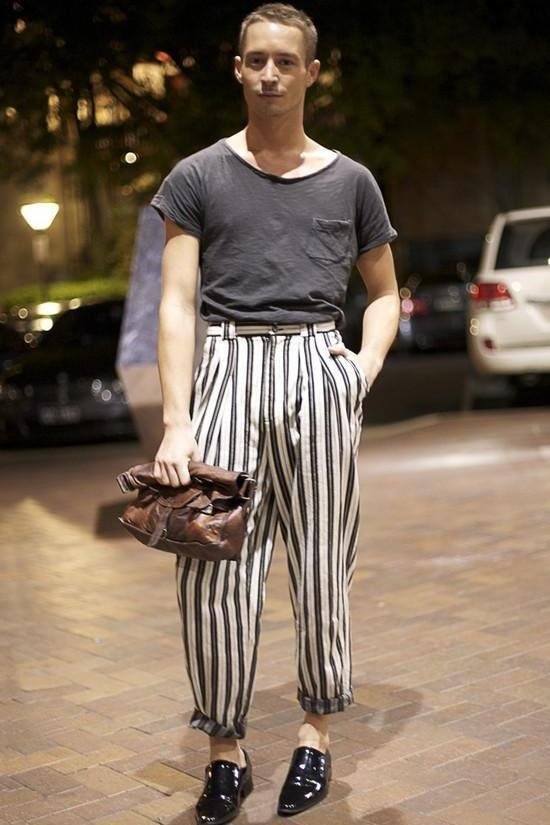Tshirt: (150, 136, 396, 332)
pants: (174, 325, 369, 740)
